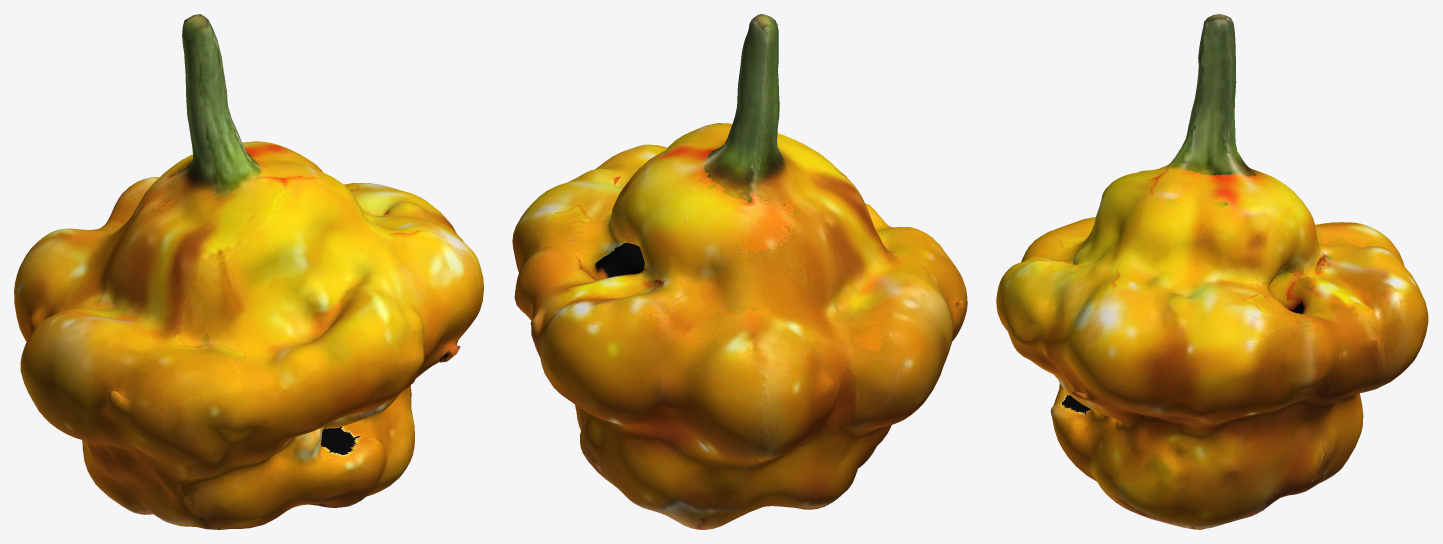
File: yellowPepper.glb
3 renders of one model, left to right at view 1: azimuth 30°, elevation 25°; view 2: azimuth 150°, elevation 25°; view 3: azimuth 270°, elevation 25°, orthographic. The views are drawn at different scales.
Parts seen in each view (by area): view 1: model.obj; view 2: model.obj; view 3: model.obj.
Boxes of the visible parts, box(x1,y1,x2,y2) form: model.obj: box(14, 14, 483, 529); model.obj: box(512, 14, 967, 529); model.obj: box(996, 14, 1428, 529).
Size of the model in its own units: 0.9601 by 1.08 by 0.9375.
Materials: 1 (1 with a texture image).
